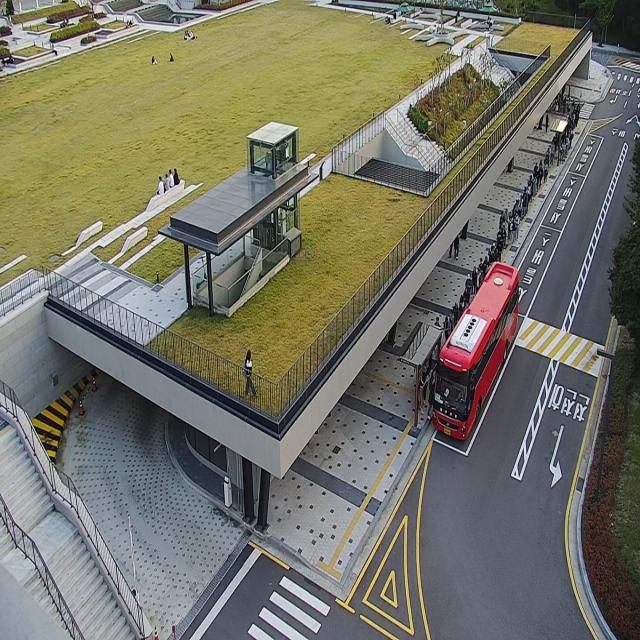queue: (417, 102, 581, 430)
